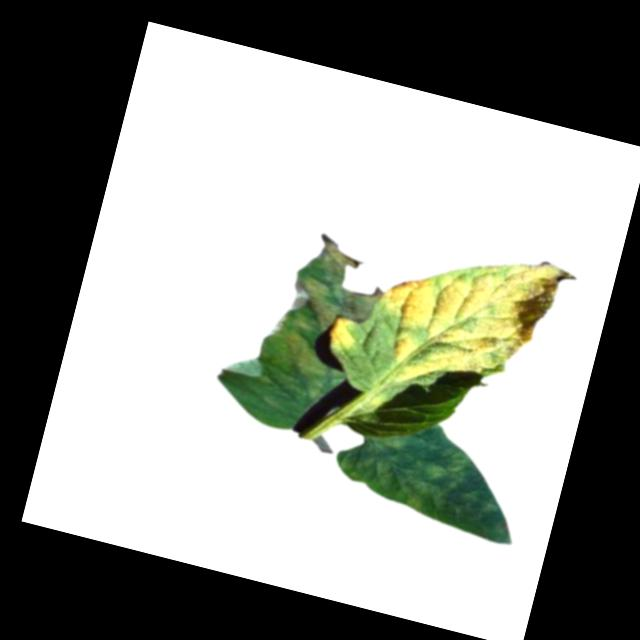Leaf_Mold: (364, 225, 578, 420), (330, 404, 535, 547), (256, 224, 395, 402)
